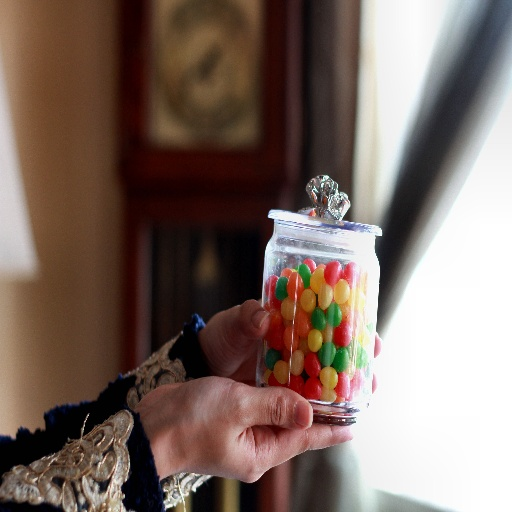hand: (140, 371, 354, 485), (200, 297, 383, 396)
